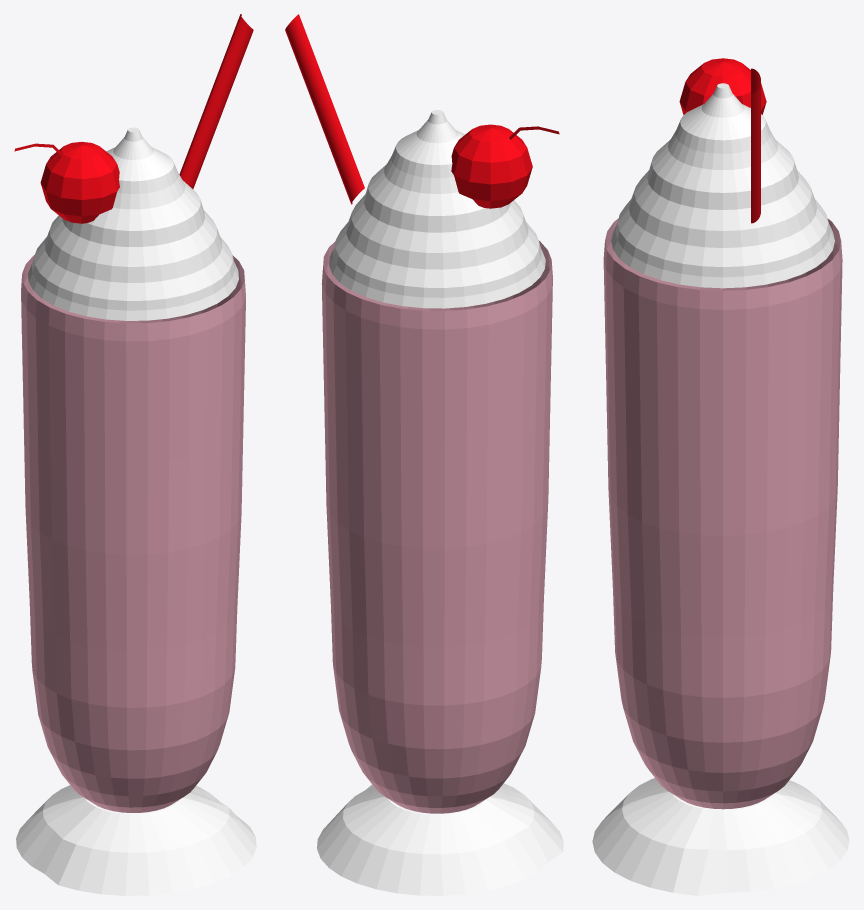
Rendered from milkshake.fbx.
The picture shows the model from 3 angles, left to right: view 1: azimuth 30°, elevation 25°; view 2: azimuth 150°, elevation 25°; view 3: azimuth 270°, elevation 25°; orthographic projection. The views are drawn at different scales.
Parts seen in each view (by area): view 1: Milkshake; view 2: Milkshake; view 3: Milkshake.
Boxes of the visible parts, x1,y1,x2,y2 form: Milkshake: [14, 14, 256, 895]; Milkshake: [285, 14, 563, 895]; Milkshake: [592, 58, 849, 895].
Size of the model in its own units: 35.46 by 106 by 29.52.
